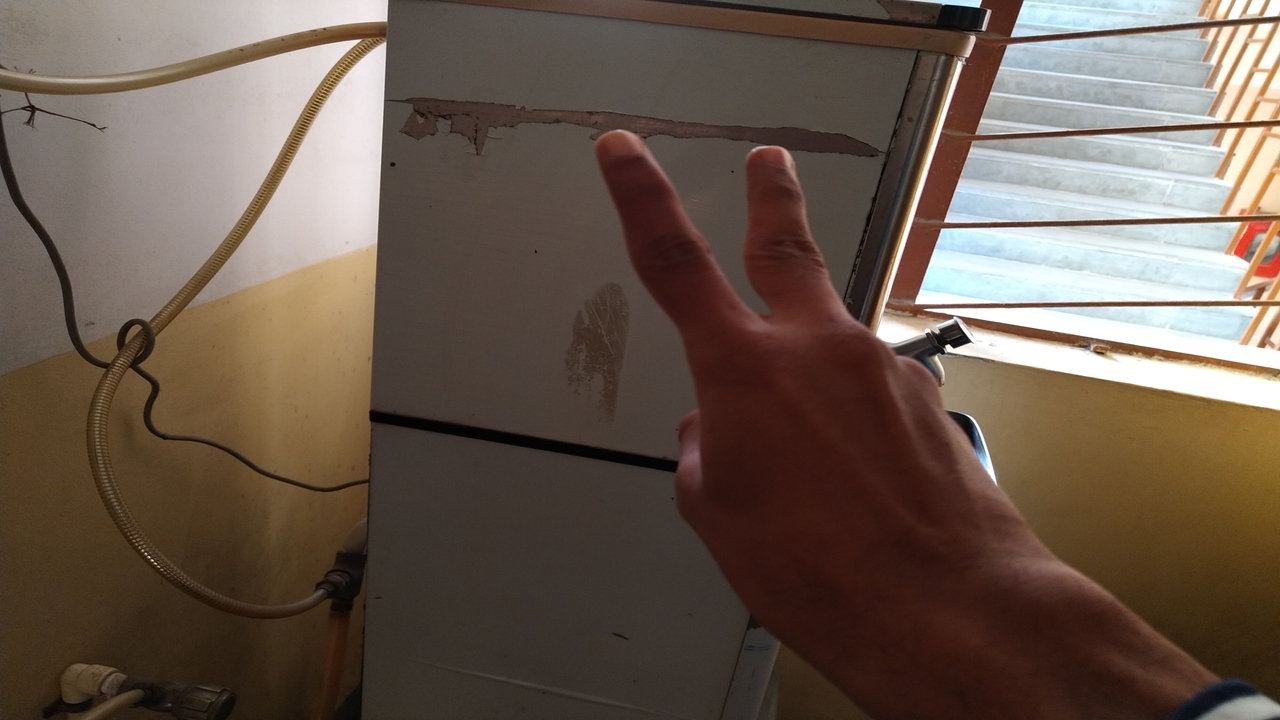fingertip: (588, 126, 662, 176), (742, 138, 810, 188)
